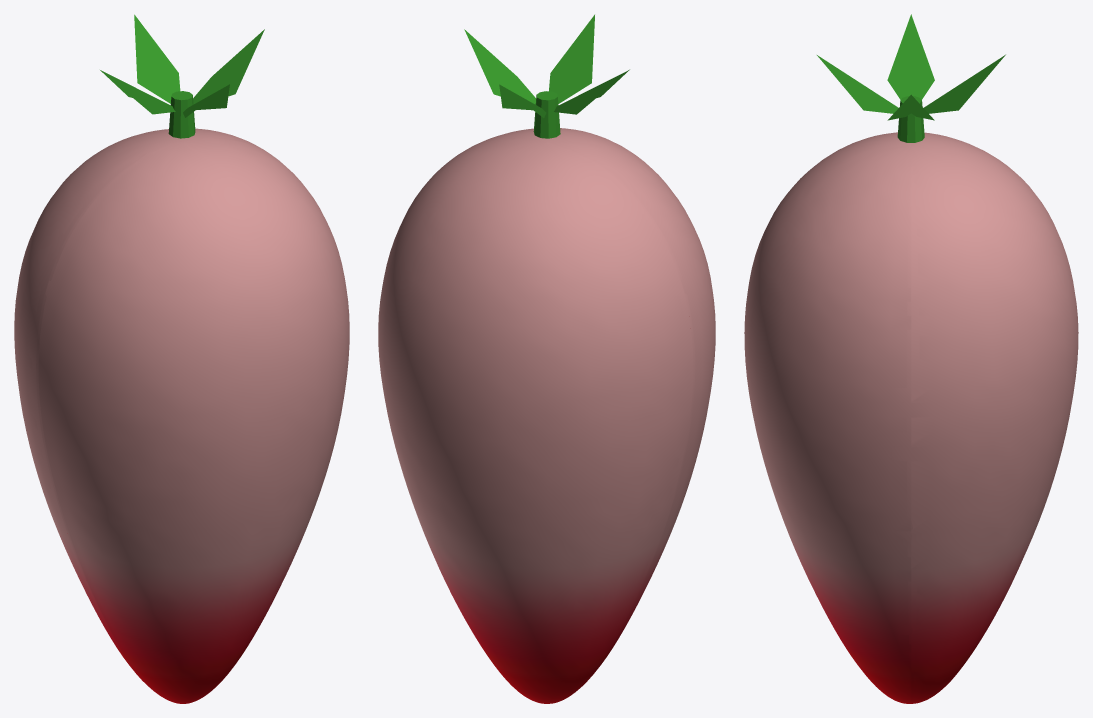
File: radis.glb
The picture shows the model from 3 angles, left to right: view 1: azimuth 30°, elevation 25°; view 2: azimuth 150°, elevation 25°; view 3: azimuth 270°, elevation 25°; orthographic projection.
Parts seen in each view (by area): view 1: entier_peau, moitie_B_peau, moitie_A_peau, entier_extra0; view 2: moitie_A_peau, entier_peau, moitie_B_peau, entier_extra0; view 3: entier_peau, moitie_A_peau, moitie_B_peau, entier_extra0.
Part boxes in pixels (x1,y1,x2,y2): entier_peau: [15, 128, 349, 695]; moitie_B_peau: [38, 138, 345, 703]; moitie_A_peau: [14, 128, 267, 686]; entier_extra0: [100, 14, 264, 138]; moitie_A_peau: [378, 138, 693, 703]; entier_peau: [378, 136, 715, 703]; moitie_B_peau: [465, 128, 715, 673]; entier_extra0: [464, 14, 629, 138]; entier_peau: [744, 133, 1078, 703]; moitie_A_peau: [911, 132, 1078, 703]; moitie_B_peau: [822, 132, 911, 703]; entier_extra0: [817, 14, 1005, 142].
Size of the model in its own units: 0.9847 by 2.1 by 0.9824.
